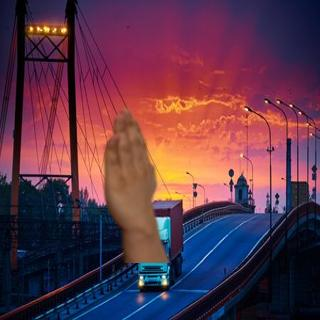RIGHT: (96, 104, 163, 235)
